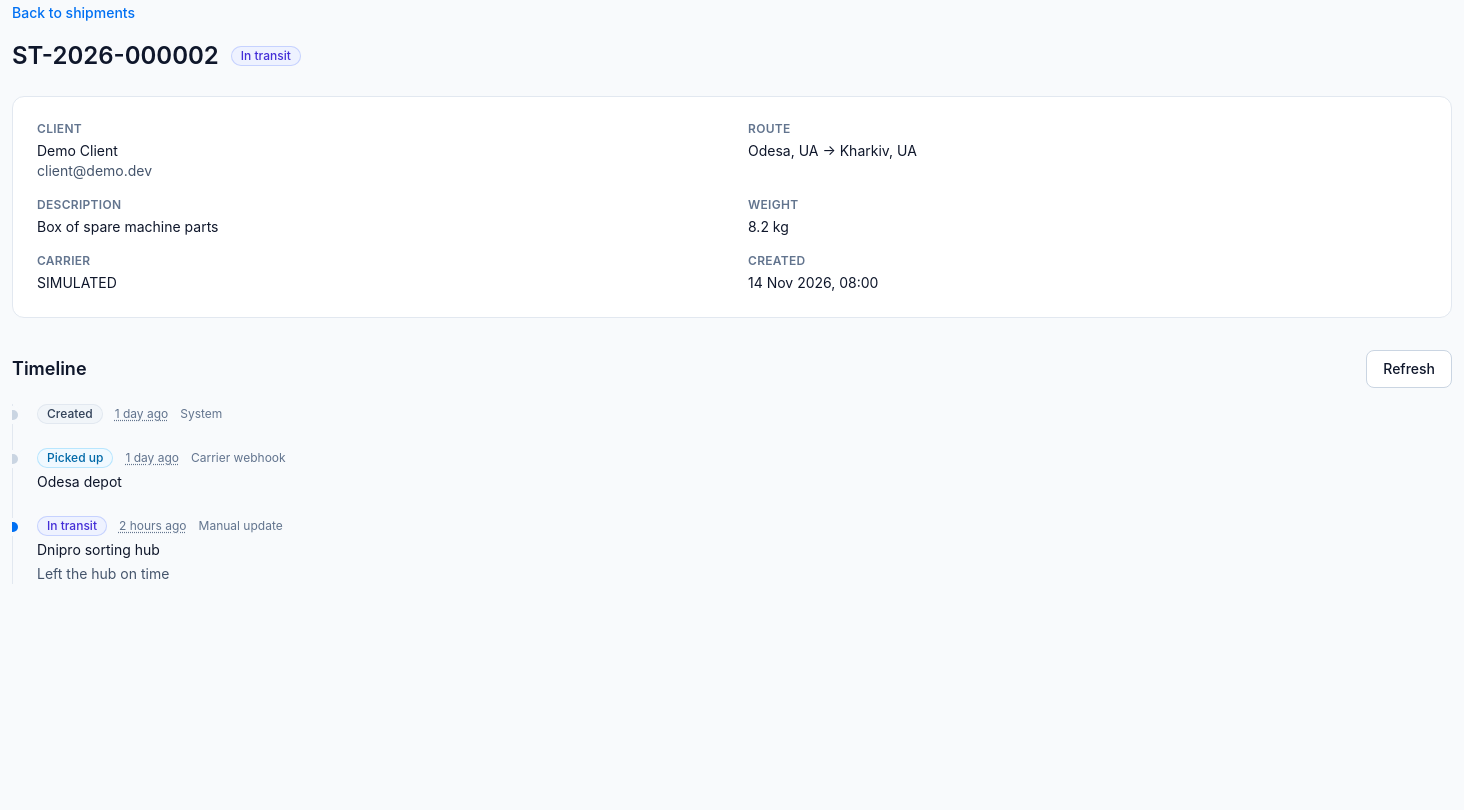
Test: ShipmentDetailView › loads the shipment again on "Refresh"
The width and height of the screenshot is (1464, 810).
Check: the list named "Movement timeline" is shown, box 12,404 -> 1452,584
Click the button "Refresh" at (1409, 369), box 1366,350 -> 1452,388
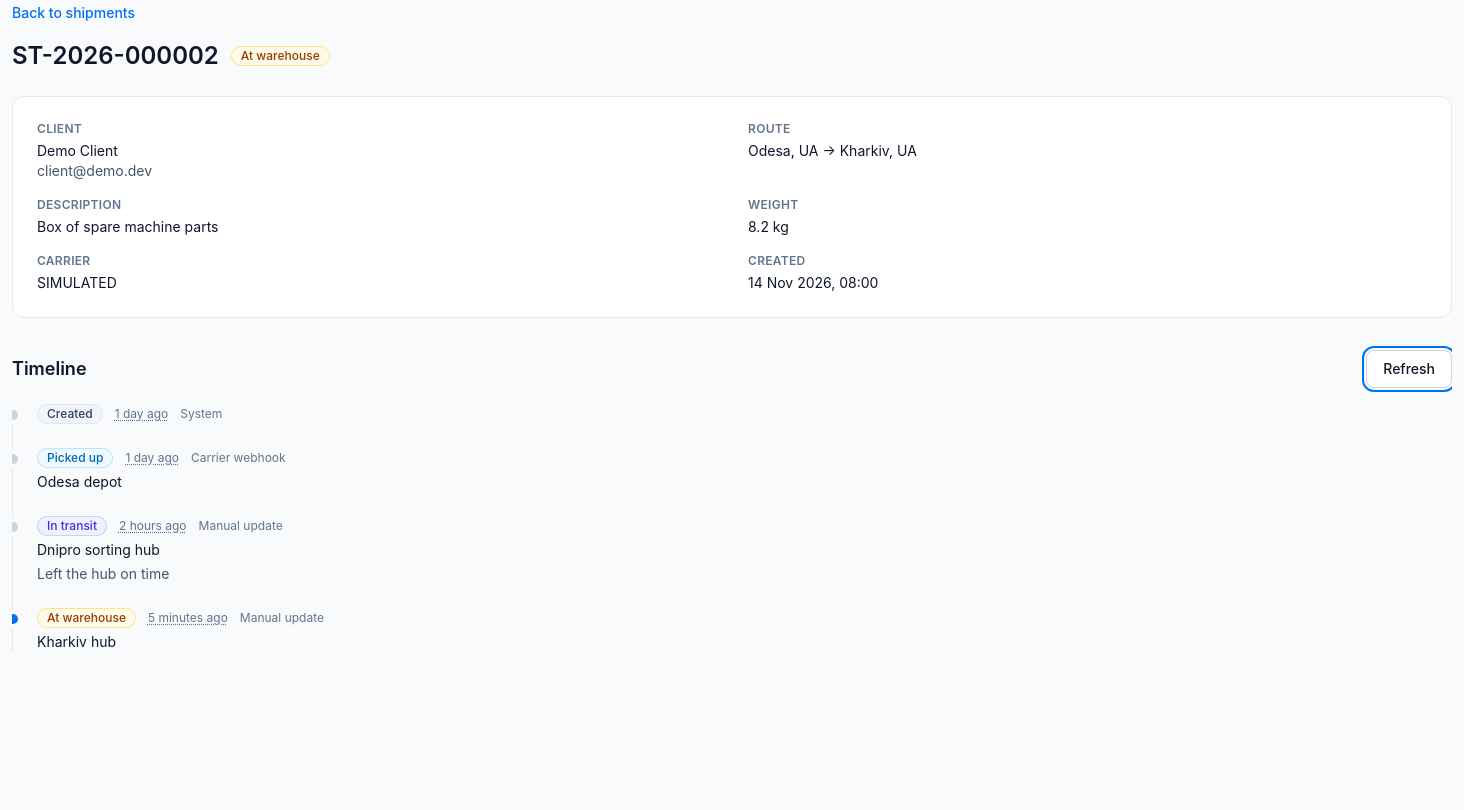
Check: the number of list items is 4, box 37,404 -> 222,424; 37,448 -> 286,490; 37,516 -> 283,582; 37,608 -> 324,650
Check: the text "At warehouse" is shown, box 231,46 -> 330,66
